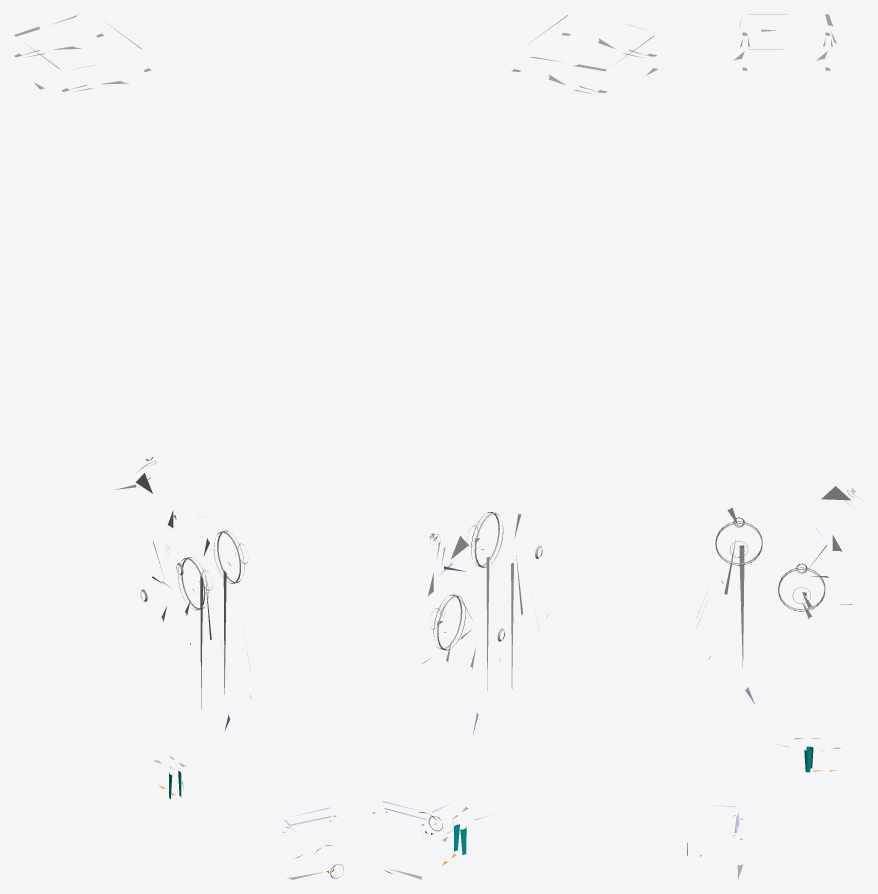
3 views of the same model, side by side, from view 1: azimuth 30°, elevation 25°; view 2: azimuth 150°, elevation 25°; view 3: azimuth 270°, elevation 25° (orthographic). The views are drawn at different scales.
Visible parts, largest first — view 1: F19721000063102000121_001_zb_ub_auflage_21_fa (×2); view 2: F19721000063102000121_001_zb_ub_auflage_21_fa (×2); view 3: F19721000063102000121_001_zb_ub_auflage_21_fa (×2).
Boxes of the visible parts, left/top/right/bottom form: F19721000063102000121_001_zb_ub_auflage_21_fa (×2): left=14, top=15, right=343, bottom=879; F19721000063102000121_001_zb_ub_auflage_21_fa (×2): left=372, top=14, right=658, bottom=879; F19721000063102000121_001_zb_ub_auflage_21_fa (×2): left=687, top=14, right=861, bottom=879.
Bounding box in the file's own units: 243 × 150 × 703.
